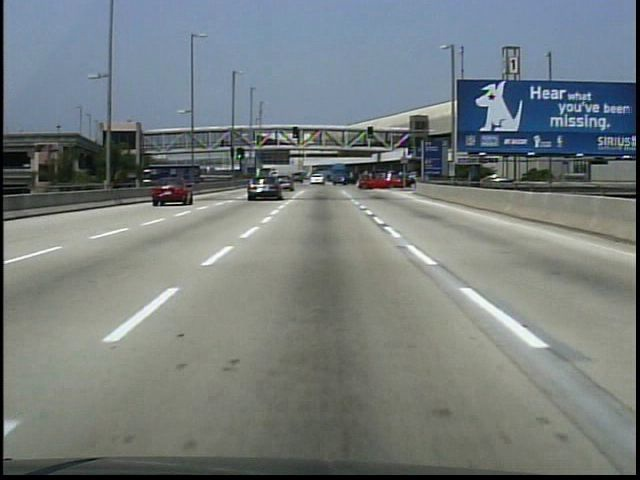person: (220, 138, 225, 150)
